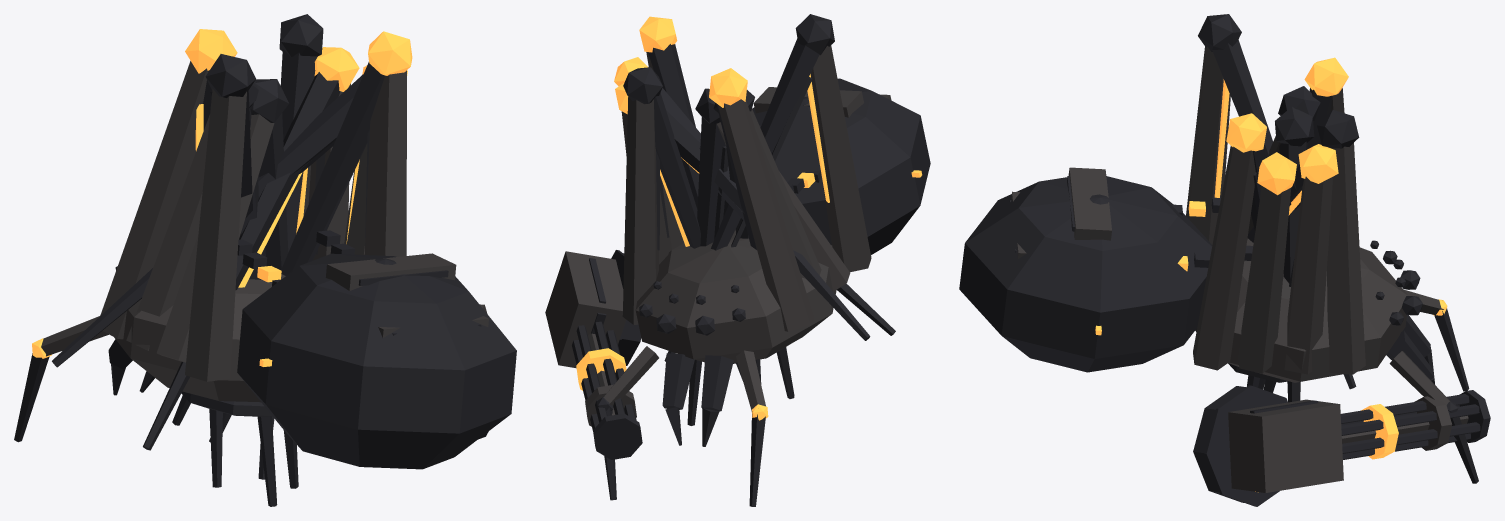
Rendered from Wreck_CrusherTarantula.fbx.
3 views of the same model, side by side, from view 1: azimuth 30°, elevation 25°; view 2: azimuth 150°, elevation 25°; view 3: azimuth 270°, elevation 25° (orthographic). The views are drawn at different scales.
Parts seen in each view (by area): view 1: Wreck_CrusherTarantula; view 2: Wreck_CrusherTarantula; view 3: Wreck_CrusherTarantula.
Boxes of the visible parts, box(x1,y1,x2,y2) form: Wreck_CrusherTarantula: box(14, 14, 516, 506); Wreck_CrusherTarantula: box(545, 14, 930, 506); Wreck_CrusherTarantula: box(959, 14, 1490, 506).
Size of the model in its own units: 0.9164 by 1.04 by 1.17.
